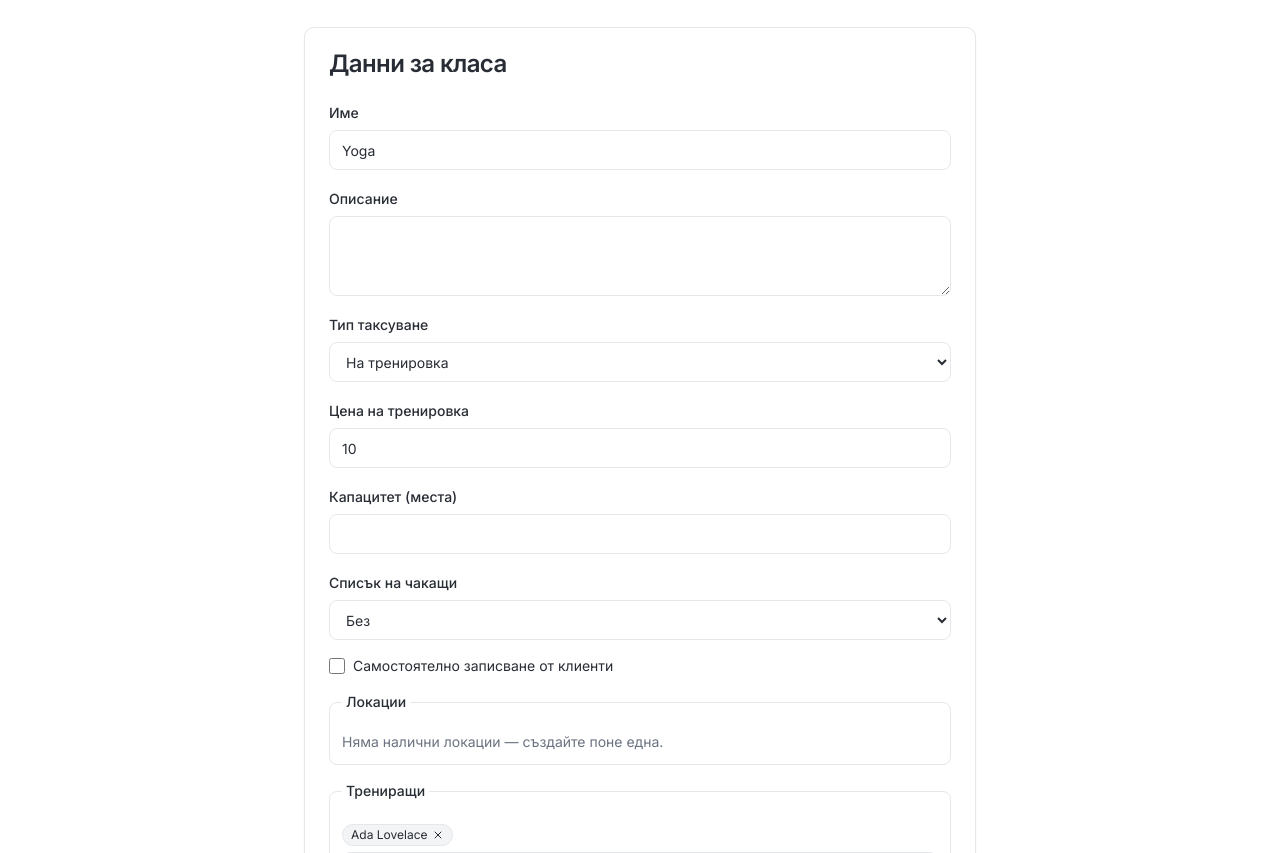
Test case: EditClassPage — roster management › saves a sub-1 price as a number
This screenshot has width=1280, height=853.
Step 1. Replace the text in the number field with id "sessionPrice" with "0.5" → (640, 448), box [329,428,951,468]
(page scrolled)
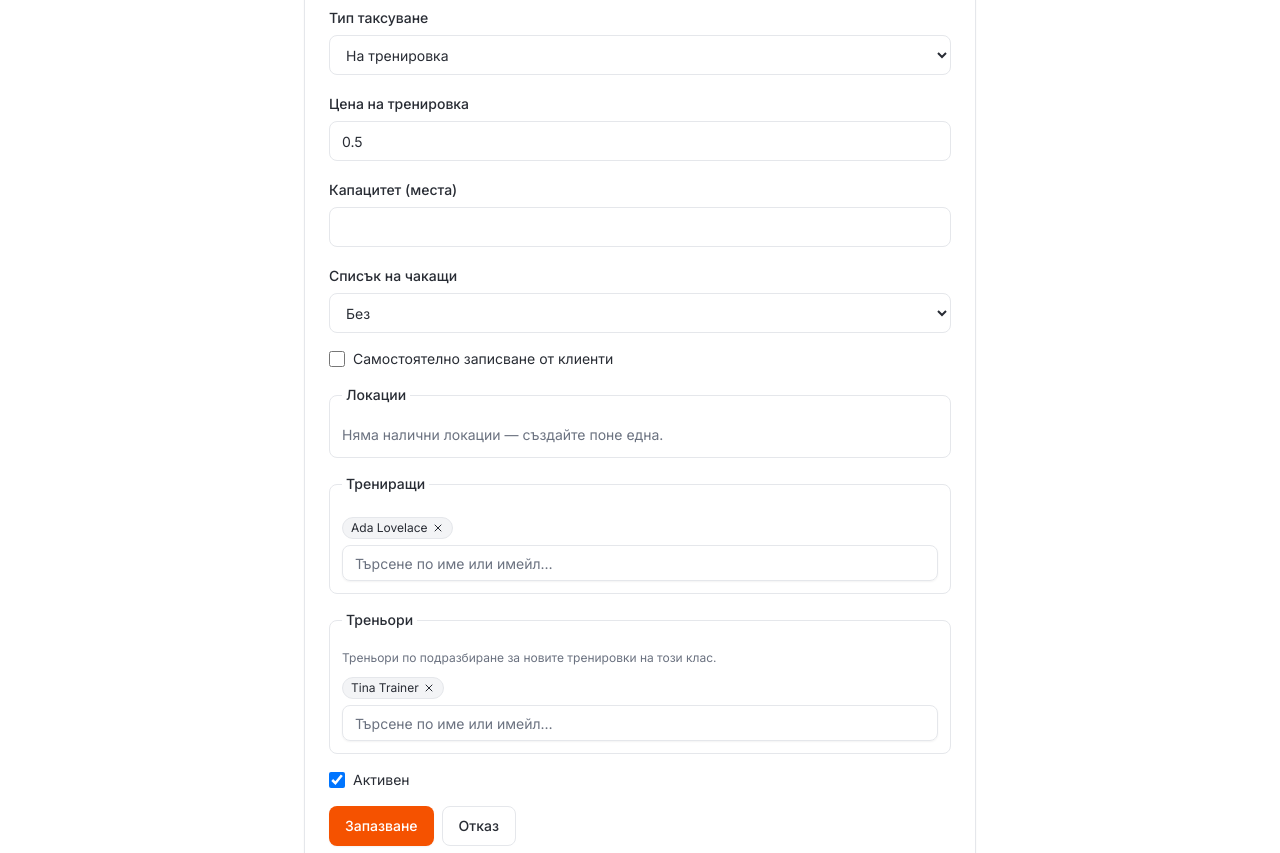
Step 2. Click the submit button → (381, 826), box [329,806,434,846]
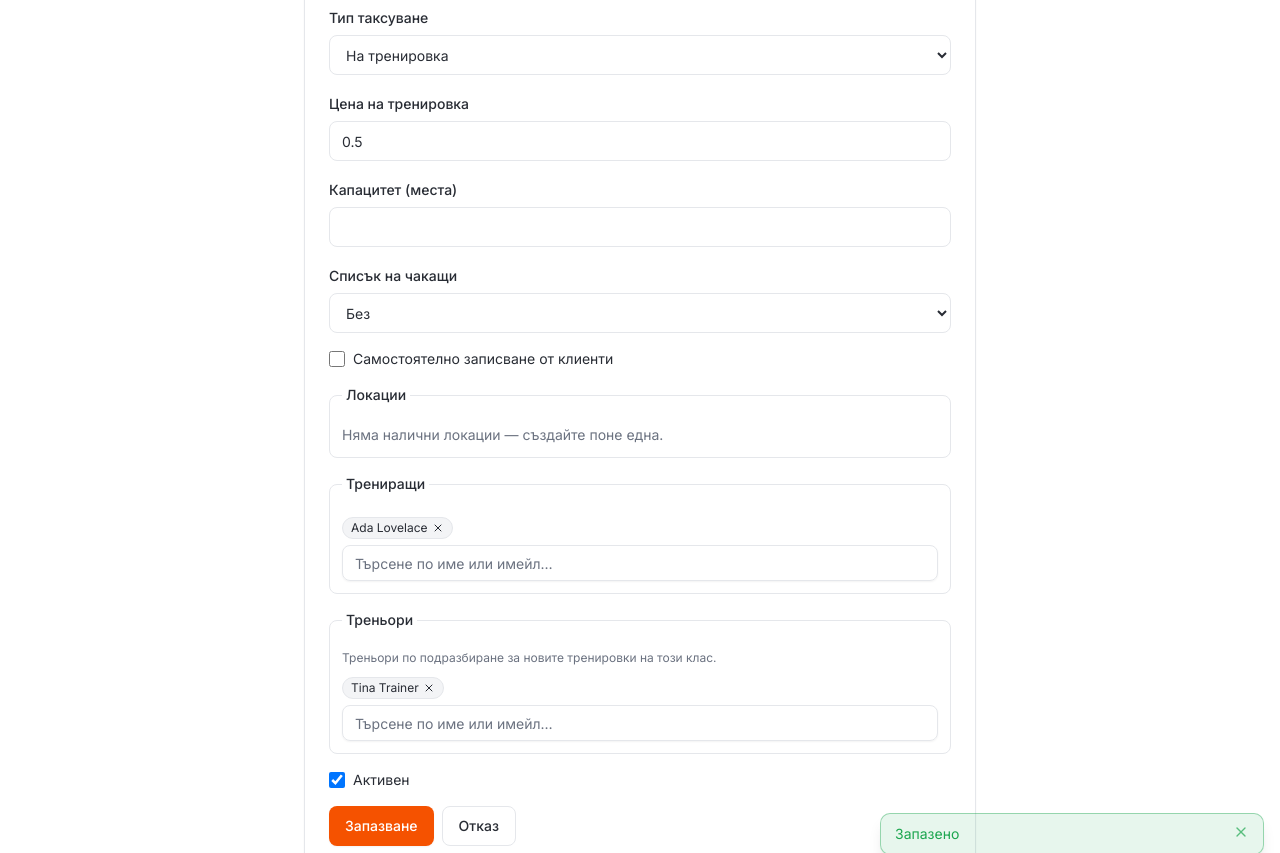
Now the text "Запазено" is shown, box [895,825,959,842]
